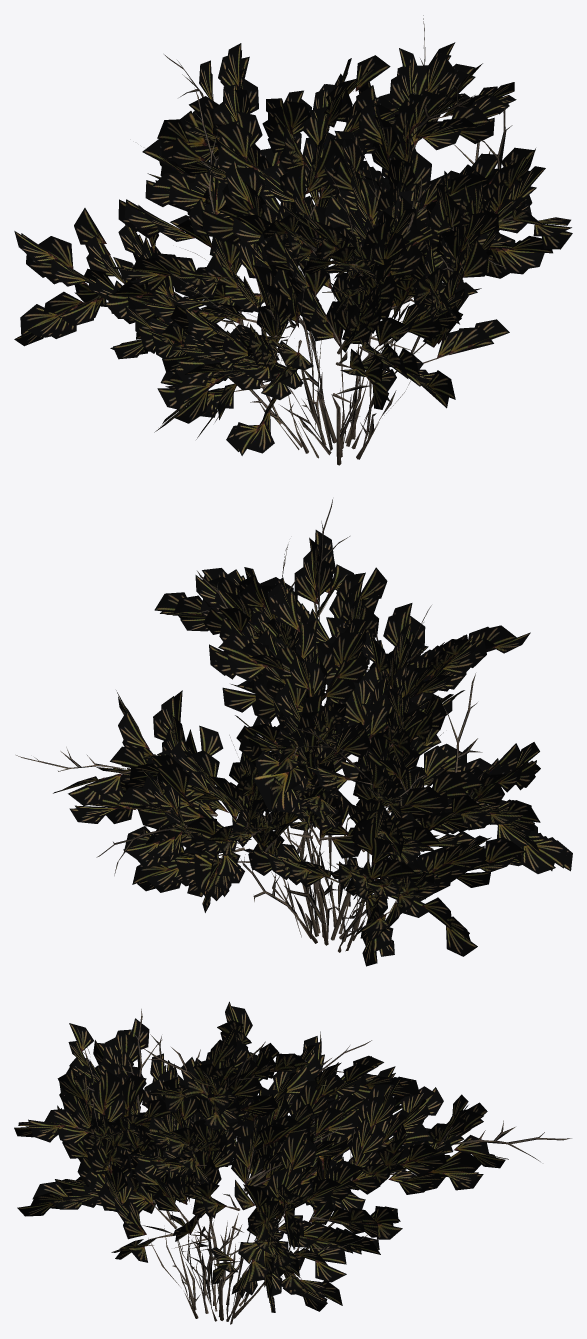
The model's file is wild_rooibos_bush-near.glb.
3 renders of one model, top to bottom at view 1: azimuth 30°, elevation 25°; view 2: azimuth 150°, elevation 25°; view 3: azimuth 270°, elevation 25°, orthographic. The views are drawn at different scales.
Parts seen in each view (by area): view 1: wild_rooibos_bush_a; view 2: wild_rooibos_bush_a; view 3: wild_rooibos_bush_a.
Part boxes in pixels (x1=…): wild_rooibos_bush_a: x1=14, y1=15, x2=572, y2=465; wild_rooibos_bush_a: x1=16, y1=499, x2=572, y2=966; wild_rooibos_bush_a: x1=14, y1=1001, x2=571, y2=1324.
Size of the model in its own units: 0.6908 by 0.5393 by 0.8432.
2 materials, 2 textured.
